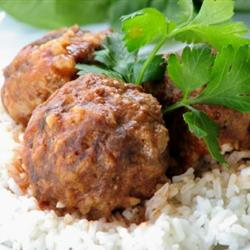meatballs: (33, 78, 162, 208), (4, 22, 107, 116)
plain rice: (1, 173, 250, 250)
